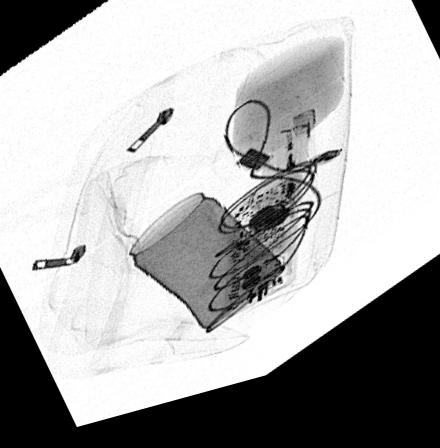Lighter: (276, 125, 315, 195)
